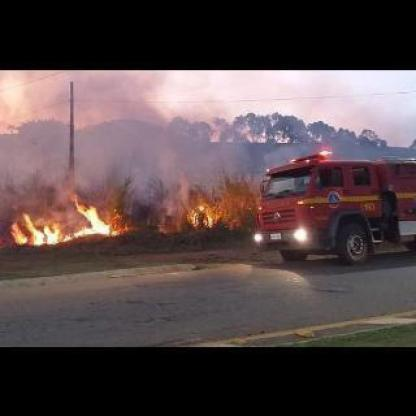fire: (9, 189, 124, 254)
